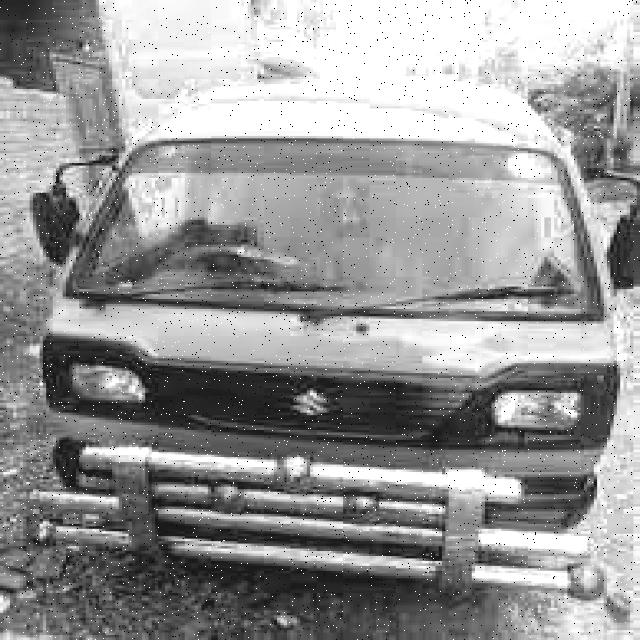LCV: (26, 67, 637, 608)
